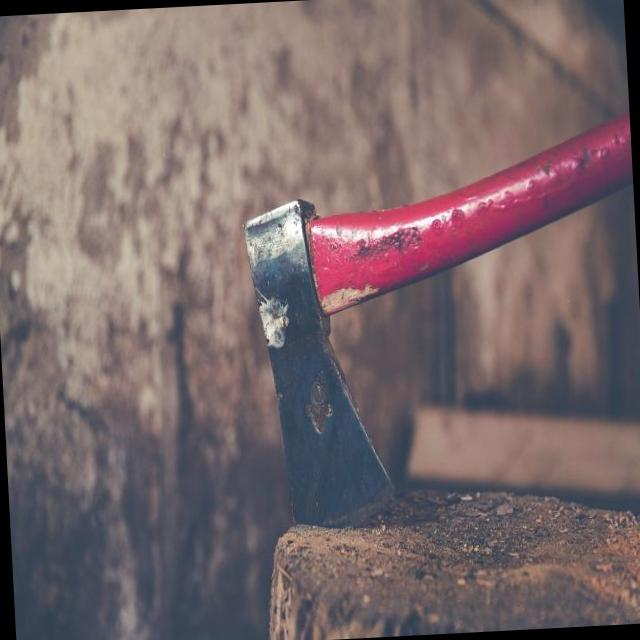Axe: (246, 115, 631, 525)
